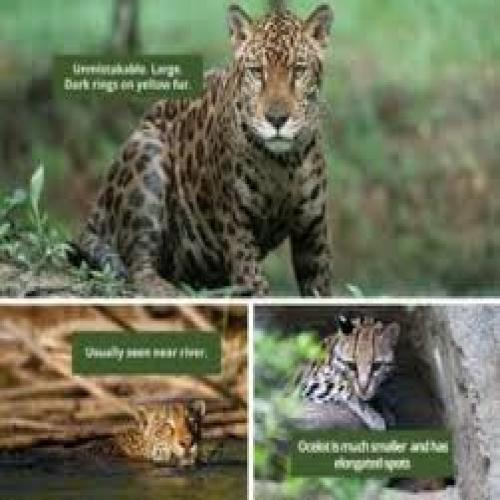jaguar_not-endangered: (74, 6, 334, 288), (291, 319, 399, 433), (117, 400, 205, 471)
